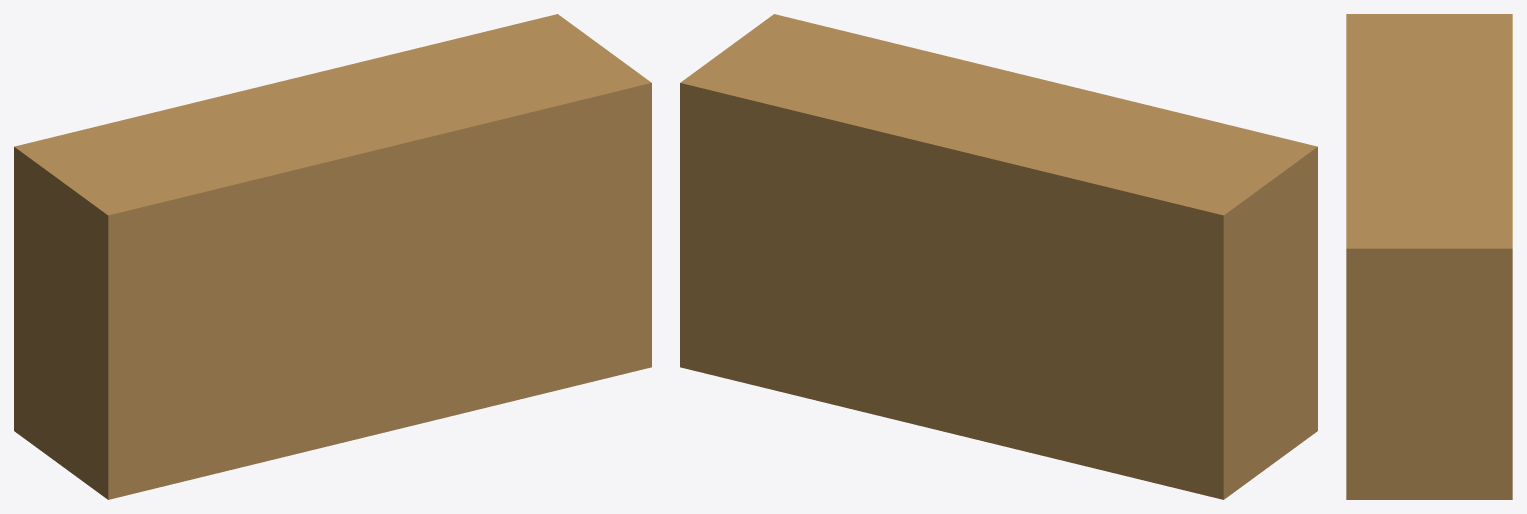
The picture shows the model from 3 angles, left to right: view 1: azimuth 30°, elevation 25°; view 2: azimuth 150°, elevation 25°; view 3: azimuth 270°, elevation 25°; orthographic projection. The views are drawn at different scales.
Visible parts, largest first — view 1: RUN-084-S00-NOG-18; view 2: RUN-084-S00-NOG-18; view 3: RUN-084-S00-NOG-18.
Boxes of the visible parts, <box> form: RUN-084-S00-NOG-18: <box>14,14,651,499</box>; RUN-084-S00-NOG-18: <box>680,14,1317,499</box>; RUN-084-S00-NOG-18: <box>1346,14,1512,499</box>.
Bounding box in the file's own units: 0.09 × 0.045 × 0.027.
